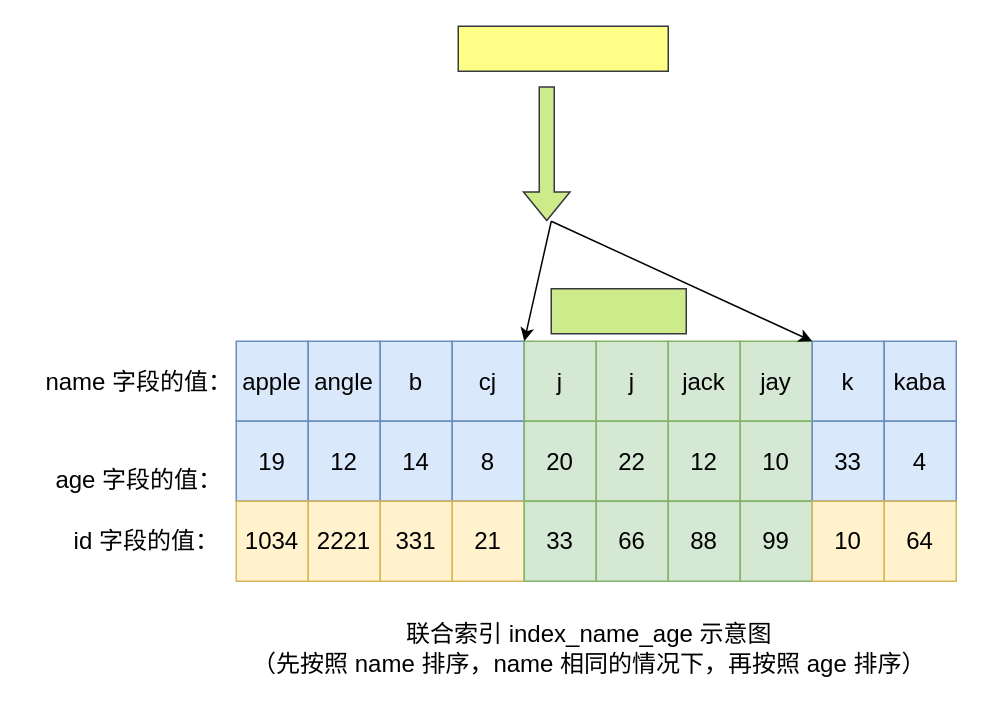
Some shapes in this 983 by 713 pixel diagram are drawn without their labels. Here are the shapes that lost their labels. From the top down, the centre of each, then its label:
At point (562, 48): "条件 like 'j%'".
At point (618, 310): "扫描区间".
